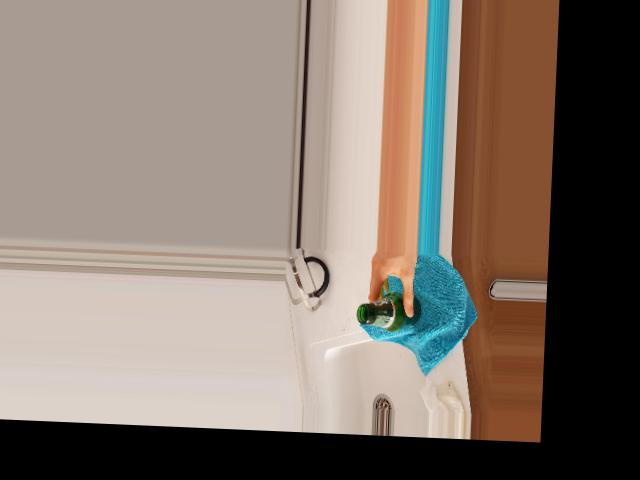beer: (357, 293, 422, 332)
